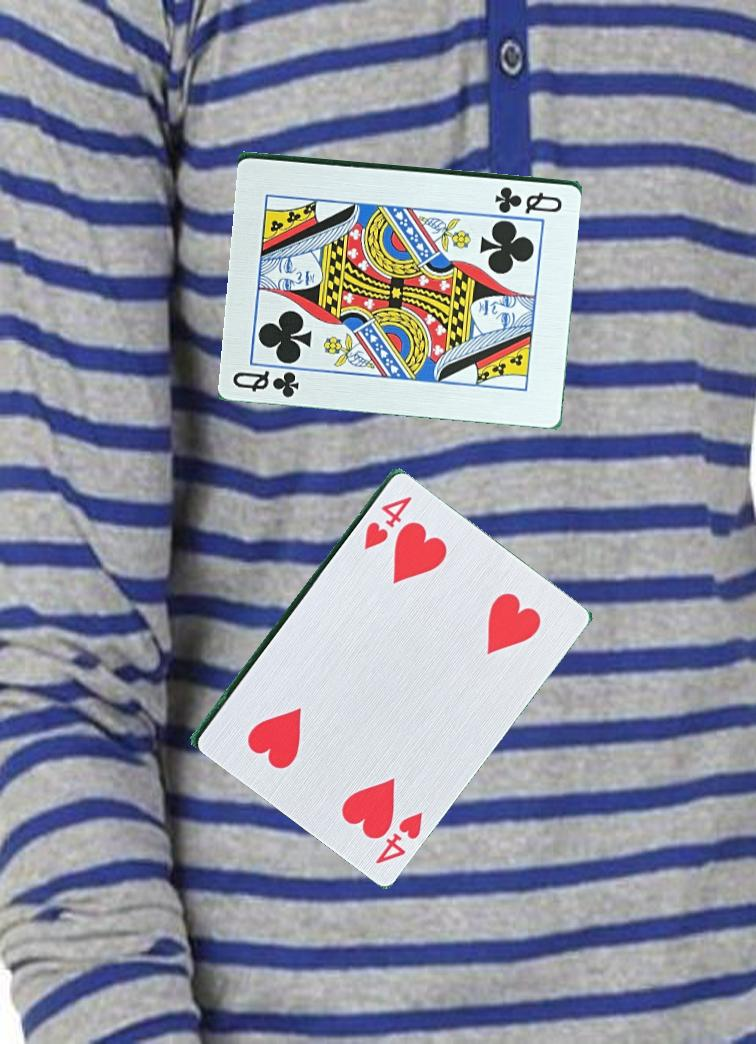4h: (361, 794, 430, 867), (359, 491, 415, 553)
qc: (229, 367, 303, 400), (492, 183, 566, 215)
